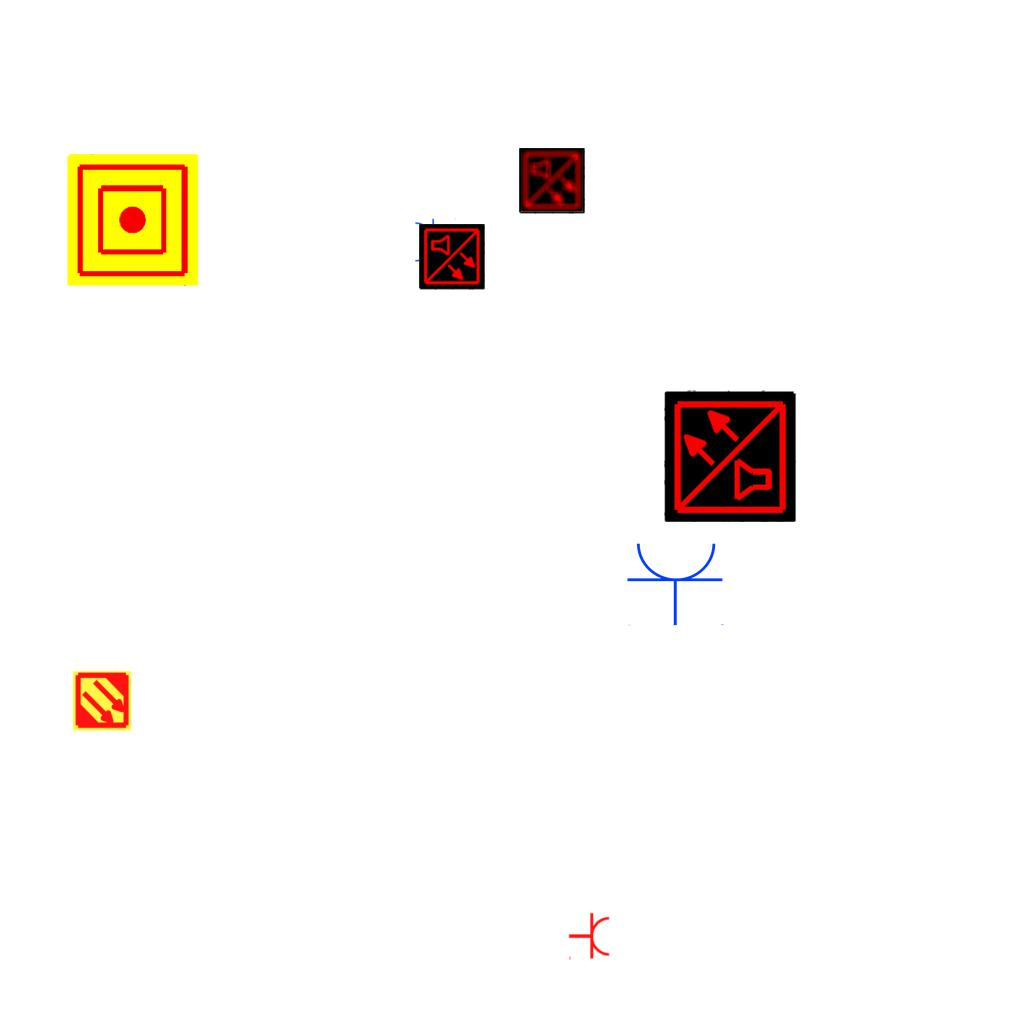ASR_Ansaugrauchmelder: (71, 670, 133, 732)
NAM-Nichtautomatischer_Melder: (67, 154, 199, 286)
OKW_Multisensormelder_(Kombination_optischer_Rauch-Kahlenmonoxid_Waerme-Melder): (664, 390, 796, 522), (519, 148, 585, 214), (419, 224, 485, 290)
Schukosteckdose_einfach: (626, 539, 726, 626), (568, 912, 611, 962), (413, 217, 456, 267)
